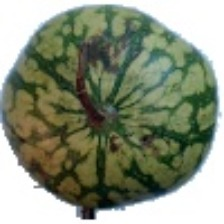watermelon: (32, 28, 168, 172)
